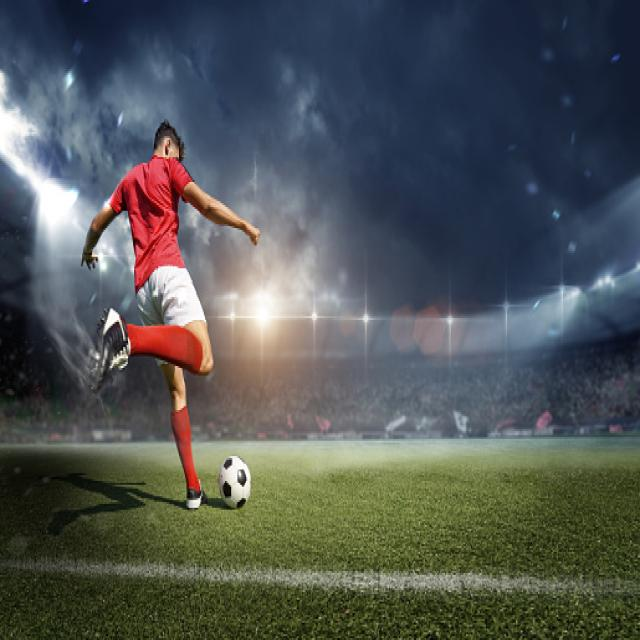ball: (216, 456, 250, 508)
